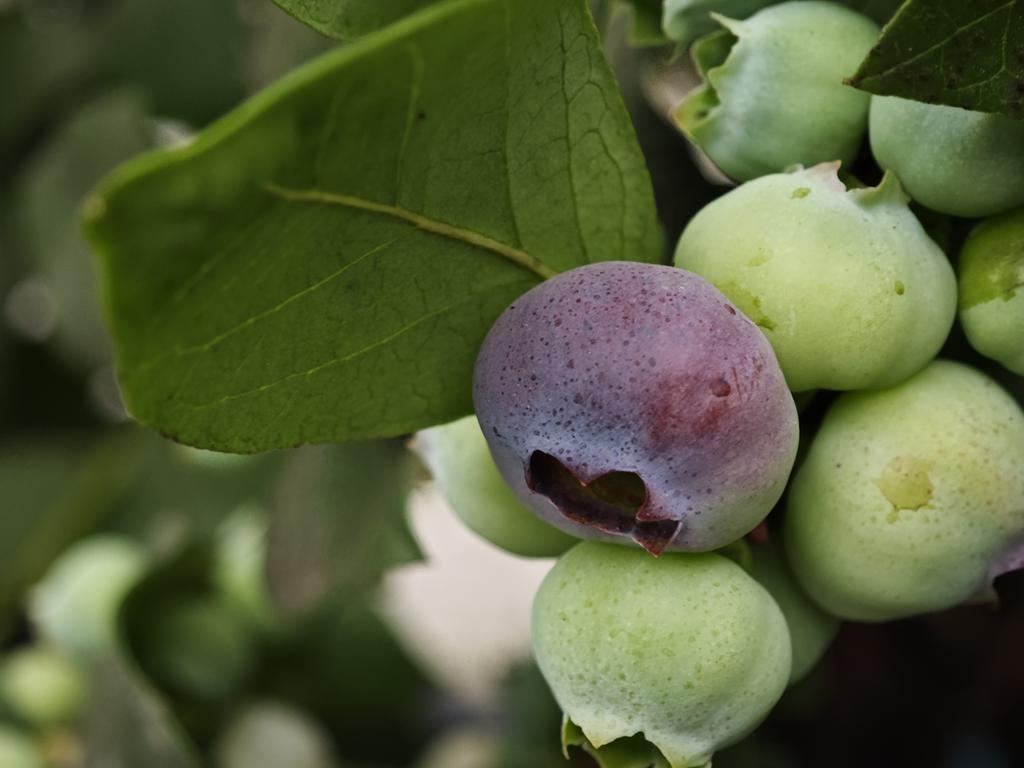Semi-RipeBlueBerry: (474, 262, 797, 554)
UnripeBlueBerry: (532, 548, 791, 768)
